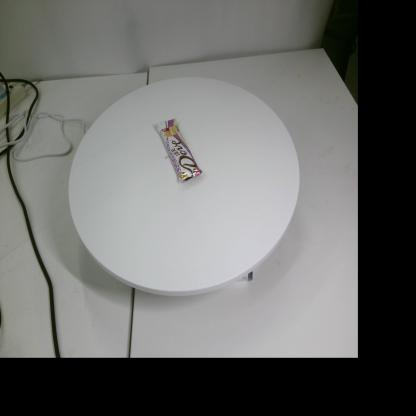Chocolate: (156, 118, 204, 183)
